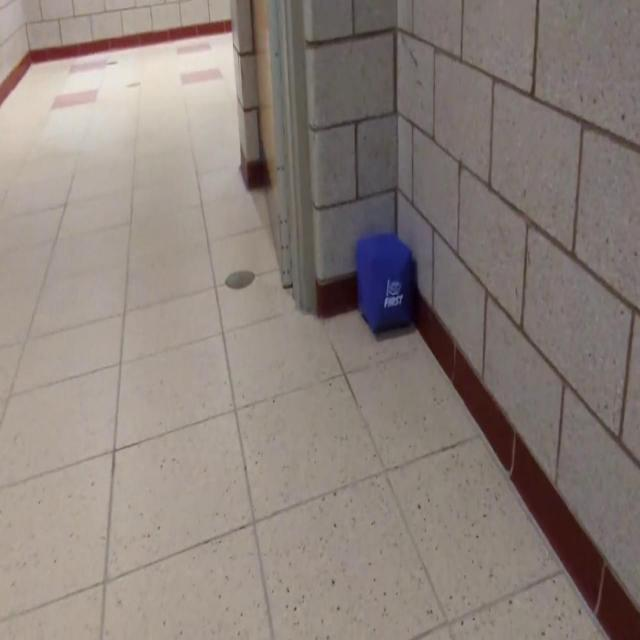frc_cube: (357, 234, 413, 340)
